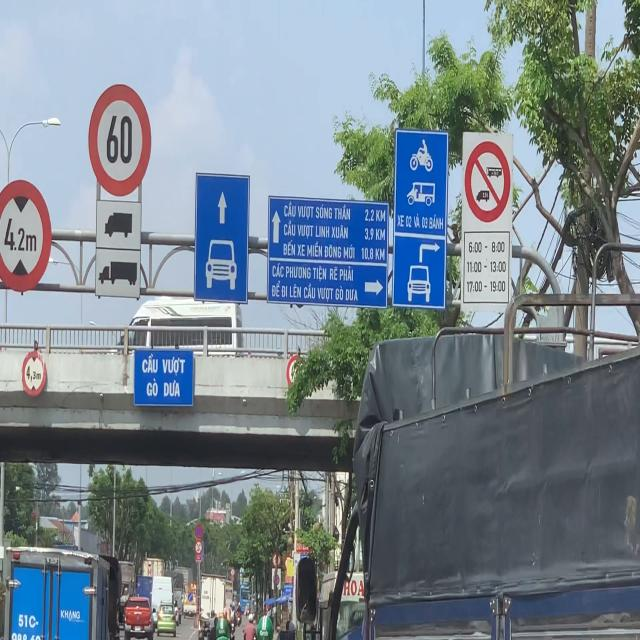Cam con lai: (464, 142, 510, 226), (194, 540, 203, 555)
Cam dung va do: (195, 524, 203, 539)
Chieu cao toi da: (0, 169, 56, 300), (20, 346, 50, 408)
Toc do toi da: (88, 78, 154, 198)
